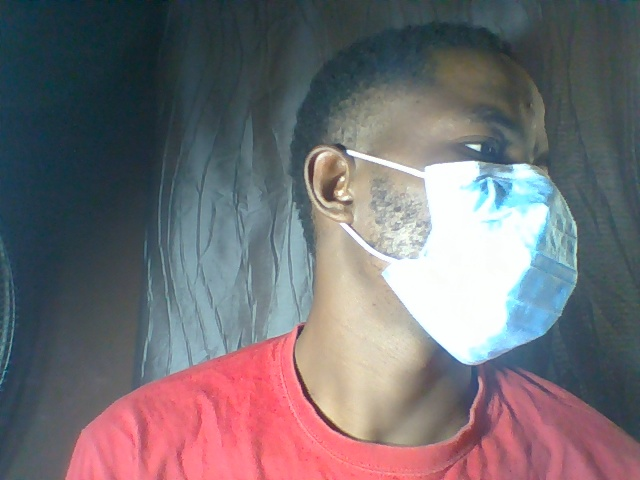MaskOn: (286, 21, 582, 396)
